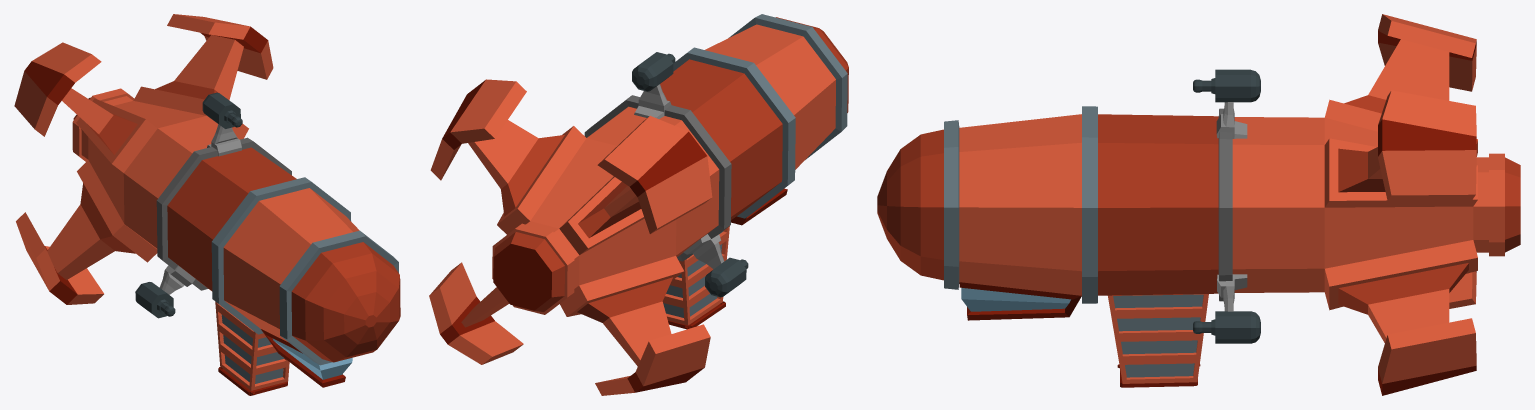
File: dirigible.obj
The picture shows the model from 3 angles, left to right: view 1: azimuth 30°, elevation 25°; view 2: azimuth 150°, elevation 25°; view 3: azimuth 270°, elevation 25°; orthographic projection. The views are drawn at different scales.
Parts seen in each view (by area): view 1: Object009, Object007; view 2: Object009; view 3: Object009.
Boxes of the visible parts, <box> form: Object009: <box>14,14,400,390</box>; Object007: <box>218,367,287,395</box>; Object009: <box>429,14,848,395</box>; Object009: <box>877,14,1520,395</box>.
Bounding box in the file's own units: 5.26 × 5.67 × 10.26.
